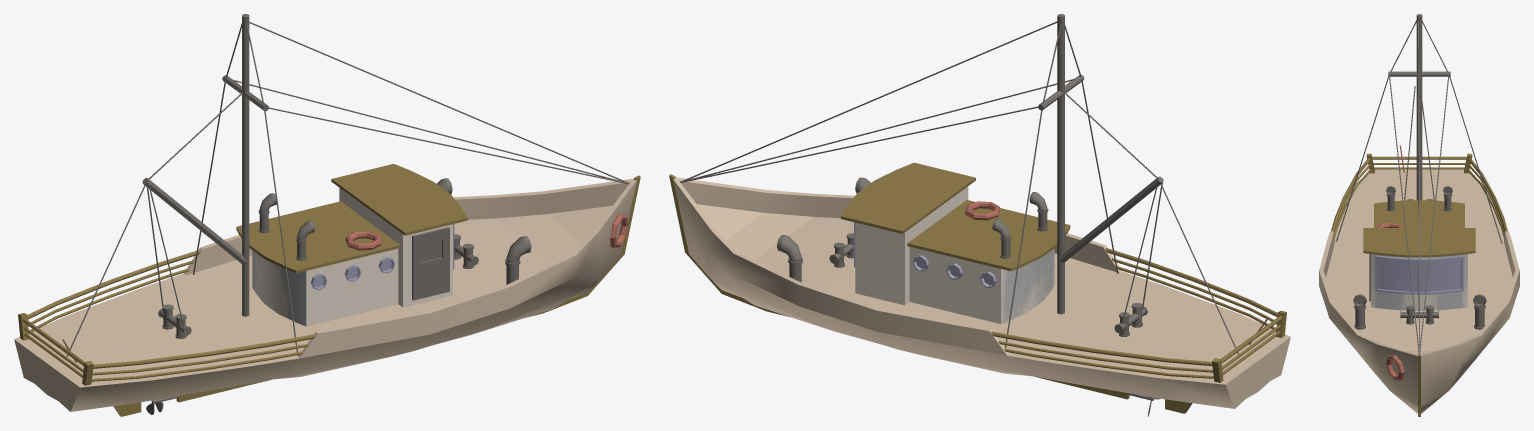
The model's file is penangkap-ikan.glb.
The picture shows the model from 3 angles, left to right: view 1: azimuth 30°, elevation 25°; view 2: azimuth 150°, elevation 25°; view 3: azimuth 270°, elevation 25°; orthographic projection. The views are drawn at different scales.
Visible parts, largest first — view 1: pCylinder1, polySurface1, polySurface27, pCylinder14, pCube7, pCylinder2, polySurface22, pCylinder3, pCube3, pCylinder29, pCylinder25, pCylinder26 (+5 smaller); view 2: pCylinder1, polySurface1, polySurface27, pCylinder14, pCylinder2, polySurface22, pCube3, pCylinder3, pCylinder29, pCylinder26, pCylinder25, polySurface8 (+4 smaller); view 3: pCylinder1, polySurface1, polySurface26, polySurface24, pCylinder14, pCylinder2, polySurface27, pCylinder29, pCylinder26, pCylinder25, polySurface20, pCylinder27 (+10 smaller).
Part boxes in pixels (<box>): pCylinder1: <box>14,178,637,411</box>; polySurface1: <box>236,164,467,273</box>; polySurface27: <box>254,188,452,326</box>; pCylinder14: <box>18,249,315,385</box>; pCube7: <box>412,227,449,300</box>; pCylinder2: <box>242,14,249,316</box>; polySurface22: <box>252,250,306,326</box>; pCylinder3: <box>142,178,246,264</box>; pCube3: <box>176,175,640,402</box>; pCylinder29: <box>249,21,629,183</box>; pCylinder25: <box>233,79,620,180</box>; pCylinder26: <box>269,107,629,184</box>; pCylinder1: <box>673,177,1290,408</box>; polySurface1: <box>841,162,1070,271</box>; polySurface27: <box>855,186,1054,323</box>; pCylinder14: <box>991,248,1286,382</box>; pCylinder2: <box>1057,14,1064,314</box>; polySurface22: <box>1001,248,1054,322</box>; pCube3: <box>669,174,1129,399</box>; pCylinder3: <box>1060,176,1163,262</box>; pCylinder29: <box>680,21,1057,181</box>; pCylinder26: <box>688,79,1073,179</box>; pCylinder25: <box>680,106,1038,182</box>; polySurface8: <box>777,235,802,282</box>; pCylinder1: <box>1319,169,1519,413</box>; polySurface1: <box>1363,200,1475,257</box>; polySurface26: <box>1375,255,1463,294</box>; polySurface24: <box>1371,254,1467,310</box>; pCylinder14: <box>1331,153,1507,238</box>; pCylinder2: <box>1416,14,1422,200</box>; polySurface27: <box>1371,254,1467,310</box>; pCylinder29: <box>1418,21,1419,355</box>; pCylinder26: <box>1389,75,1418,354</box>; pCylinder25: <box>1420,75,1449,354</box>; polySurface20: <box>1400,305,1438,324</box>; pCylinder27: <box>1336,20,1416,241</box>.
Bounding box in the file's own units: 0.1185 × 0.0725 × 0.0458.
